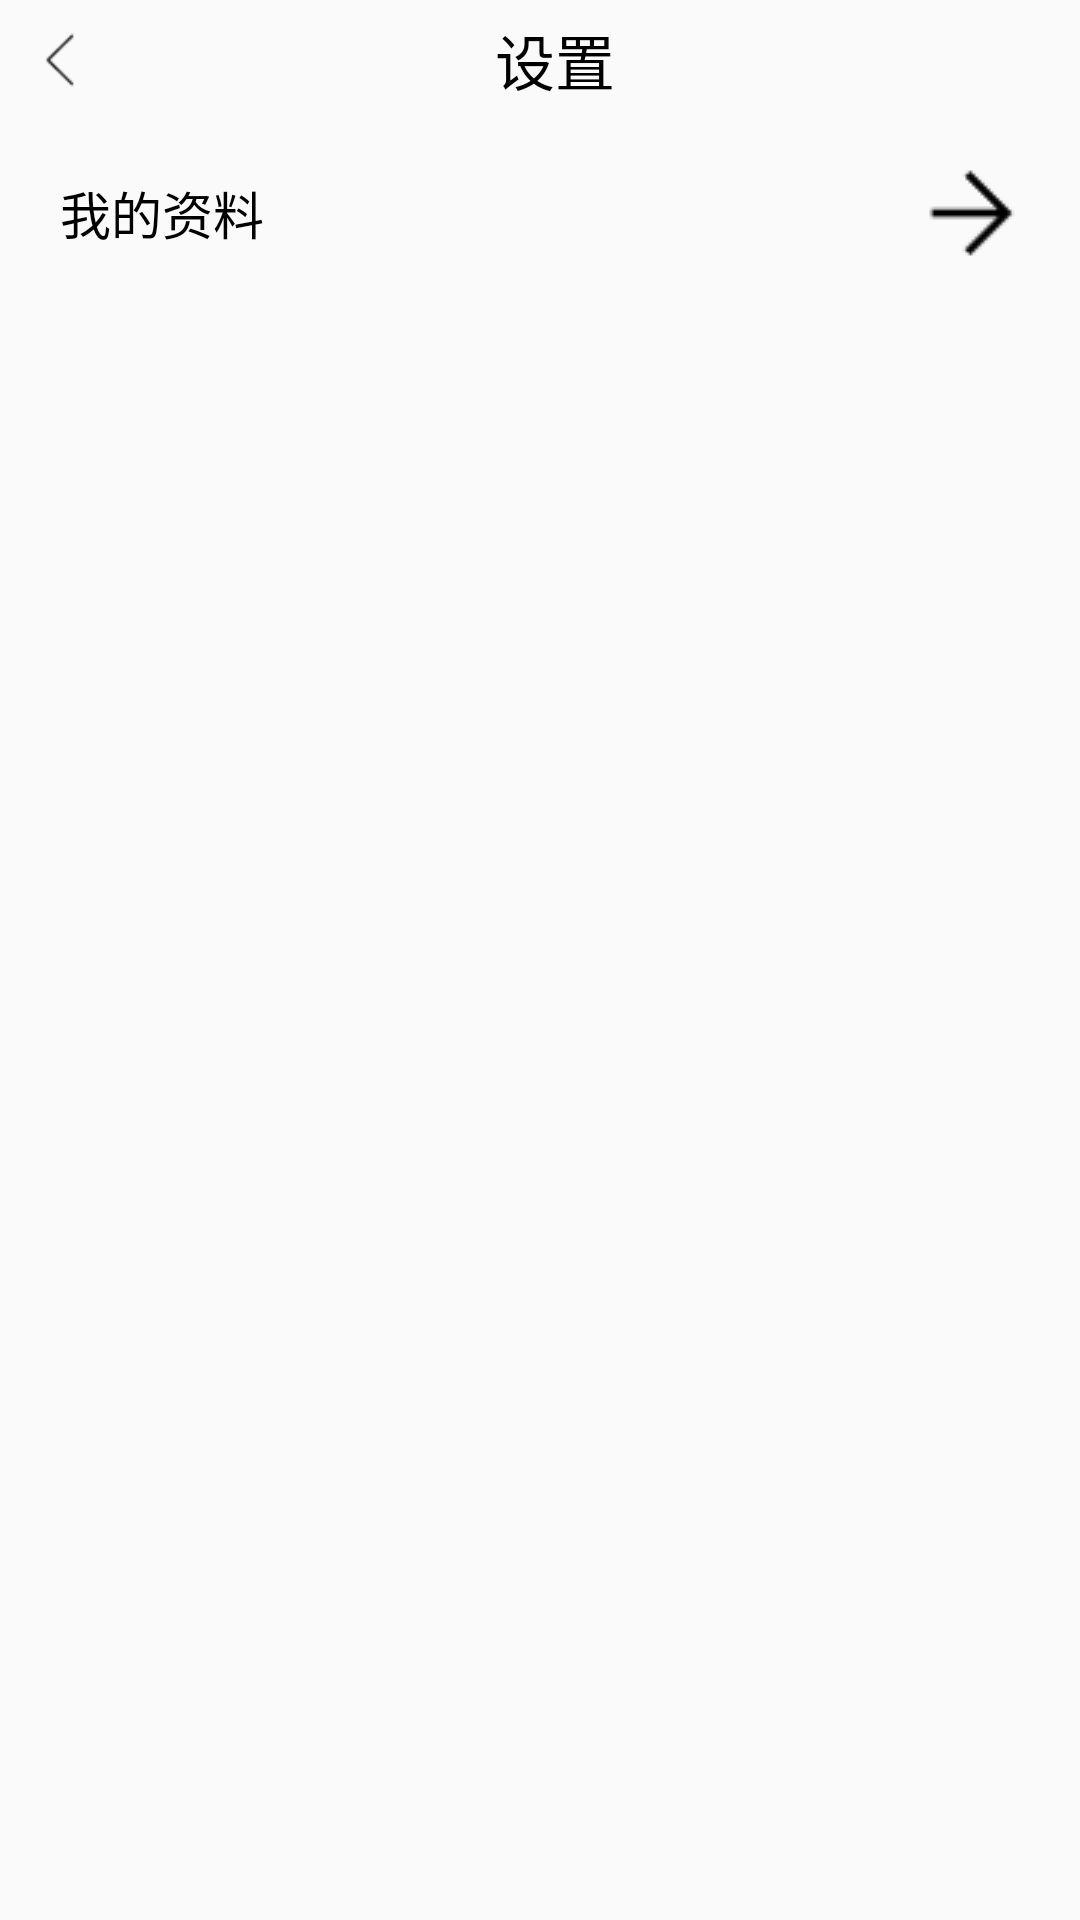

Screen size 1080 x 1920. Icon name, then its box in pixels as (x1, y1, x2, y2):
if fanhui: (46, 33, 74, 86)
